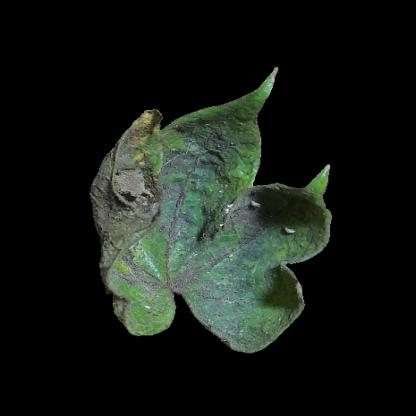sooty: (156, 155, 253, 301), (101, 165, 157, 240), (256, 197, 322, 253), (104, 236, 155, 299), (132, 123, 199, 168), (211, 301, 285, 340), (196, 117, 251, 158)
